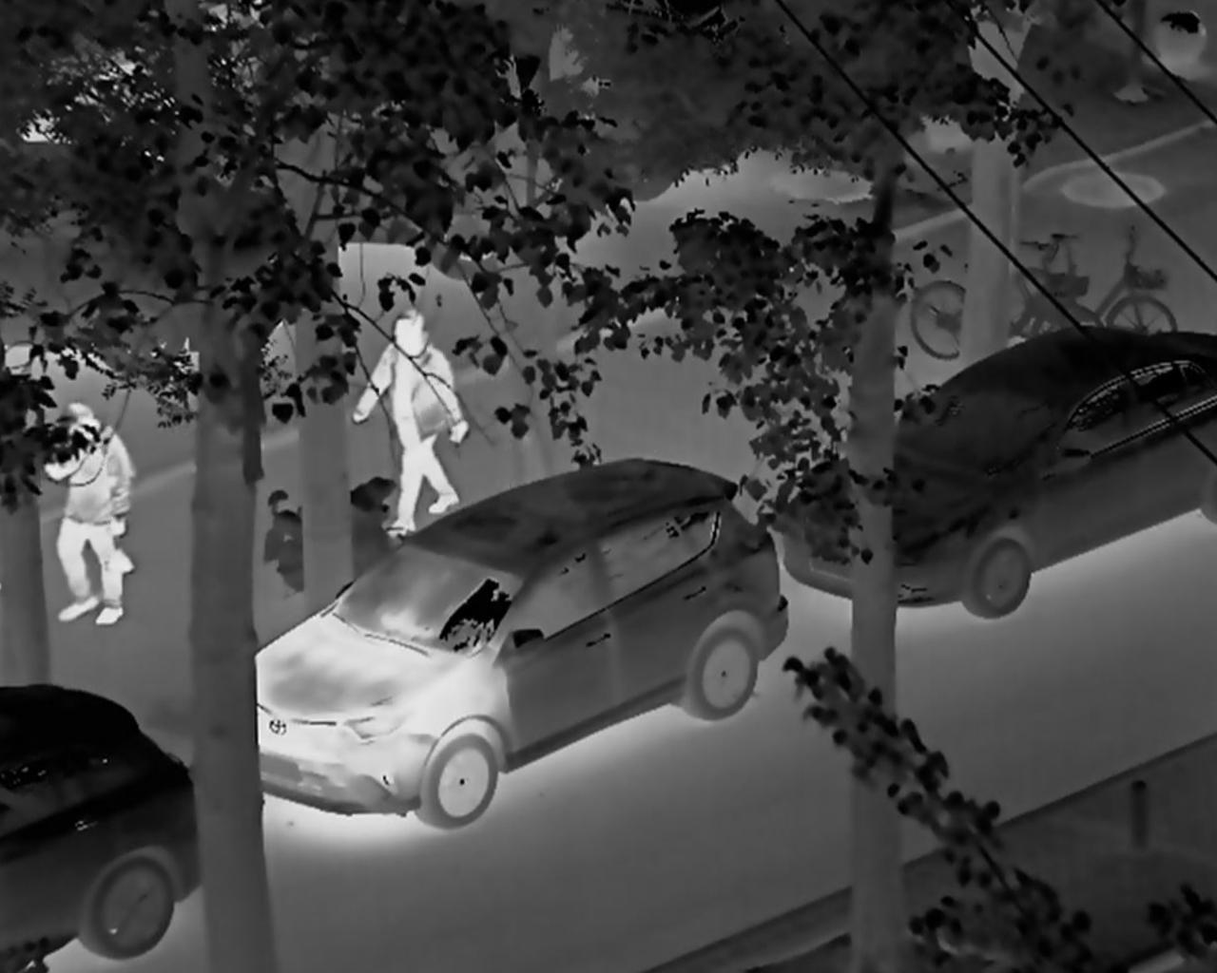person: (355, 308, 473, 555), (43, 399, 148, 645)
